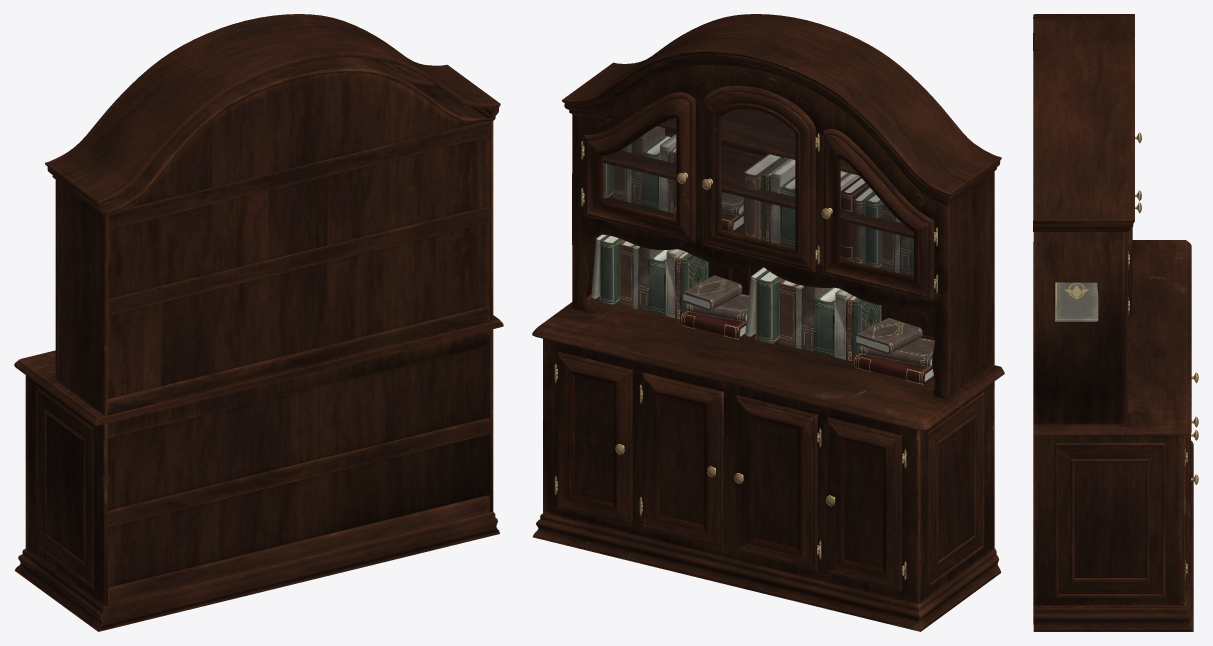
File: reading-bookcase.glb
The picture shows the model from 3 angles, left to right: view 1: azimuth 30°, elevation 25°; view 2: azimuth 150°, elevation 25°; view 3: azimuth 270°, elevation 25°; orthographic projection. The views are drawn at different scales.
Visible parts, largest first — view 1: reading-bookcase|22, reading-bookcase|21; view 2: reading-bookcase|21, reading-bookcase|22, reading-bookcase|24, reading-bookcase|23; view 3: reading-bookcase|21, reading-bookcase|22, reading-bookcase|24.
Part boxes in pixels (x1,y1,x2,y2): reading-bookcase|22: [25, 57, 493, 606]; reading-bookcase|21: [14, 14, 503, 631]; reading-bookcase|21: [532, 14, 1004, 631]; reading-bookcase|22: [543, 109, 994, 603]; reading-bookcase|24: [591, 126, 934, 384]; reading-bookcase|23: [603, 110, 913, 276]; reading-bookcase|21: [1033, 14, 1198, 631]; reading-bookcase|22: [1033, 232, 1185, 607]; reading-bookcase|24: [1055, 282, 1098, 321].
Bounding box in the file's own units: 1.13 × 1.38 × 0.4136.
4 materials, 3 textured.
